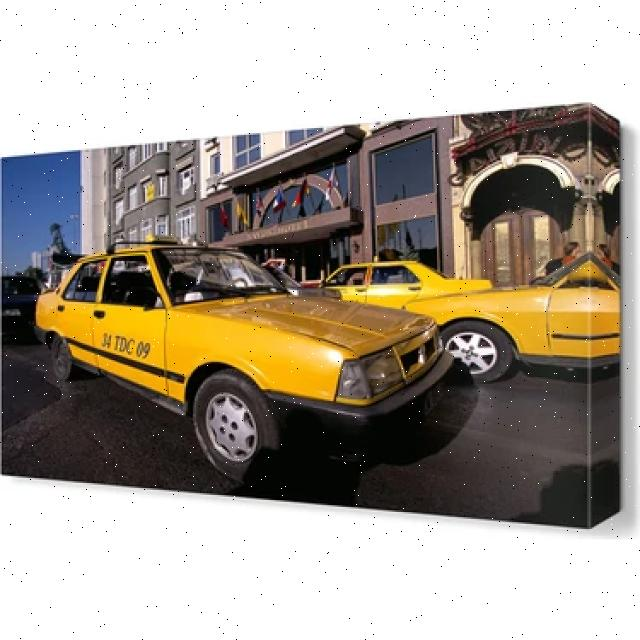car: (36, 239, 453, 479)
